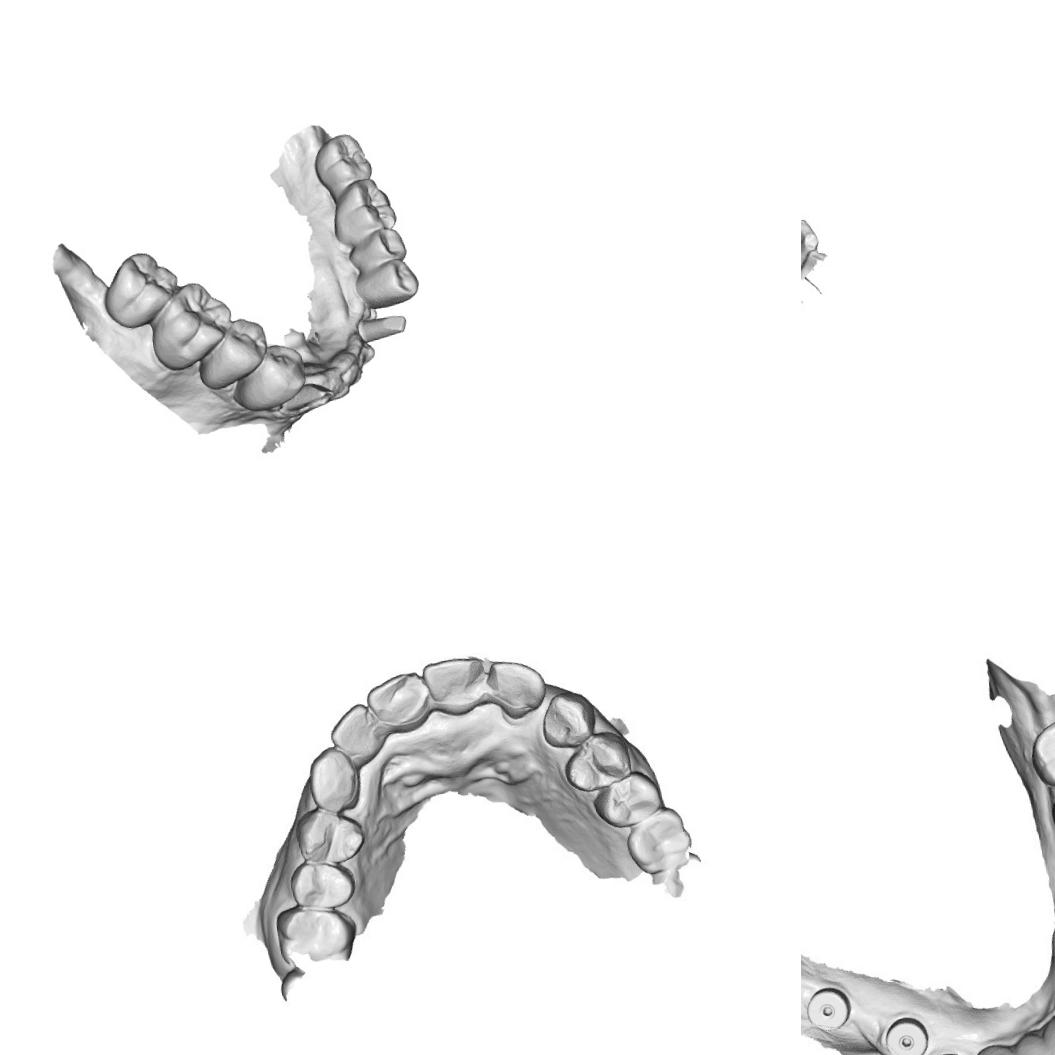abutment: (280, 380, 336, 414), (354, 312, 410, 346)
canine: (304, 740, 364, 814), (532, 690, 596, 752)
implant: (802, 982, 854, 1034), (878, 1014, 933, 1055)
incisor: (424, 656, 494, 718), (368, 671, 436, 732), (484, 654, 546, 719), (329, 703, 380, 763), (801, 215, 823, 276), (1015, 1030, 1055, 1055), (974, 1039, 1029, 1055)
molar: (145, 278, 238, 374), (97, 246, 184, 332), (274, 898, 364, 976), (622, 802, 696, 880), (327, 175, 400, 248), (309, 128, 376, 190), (1025, 711, 1055, 794)
premolar: (227, 340, 311, 415), (192, 314, 272, 392), (561, 725, 635, 796), (293, 804, 366, 872), (595, 766, 665, 833), (350, 256, 424, 314), (288, 855, 358, 912), (342, 225, 408, 271)
